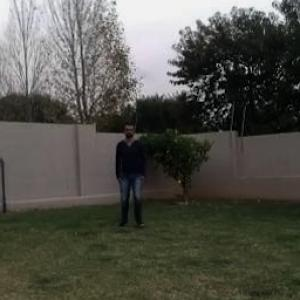follow: (117, 120, 145, 228)
